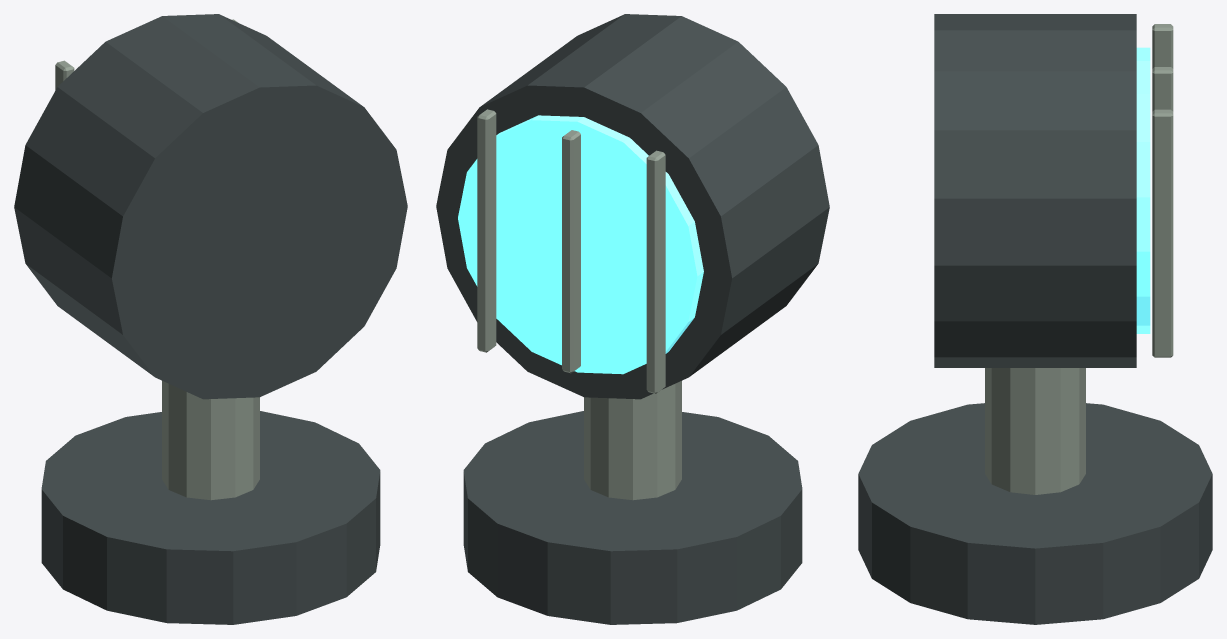
Rendered from acc_searchlight.glb.
3 renders of one model, left to right at view 1: azimuth 30°, elevation 25°; view 2: azimuth 150°, elevation 25°; view 3: azimuth 270°, elevation 25°, orthographic. The views are drawn at different scales.
Parts seen in each view (by area): view 1: acc_searchlight_RunningGear, acc_searchlight_ArmorEdges; view 2: acc_searchlight_RunningGear, acc_searchlight_Optics, acc_searchlight_ArmorEdges; view 3: acc_searchlight_RunningGear, acc_searchlight_ArmorEdges, acc_searchlight_Optics.
Boxes of the visible parts, x1=… form: acc_searchlight_RunningGear: x1=14, y1=14, x2=407, y2=624; acc_searchlight_ArmorEdges: x1=55, y1=19, x2=259, y2=500; acc_searchlight_RunningGear: x1=436, y1=14, x2=829, y2=624; acc_searchlight_Optics: x1=458, y1=115, x2=703, y2=374; acc_searchlight_ArmorEdges: x1=477, y1=109, x2=681, y2=500; acc_searchlight_RunningGear: x1=858, y1=14, x2=1212, y2=624; acc_searchlight_ArmorEdges: x1=985, y1=24, x2=1173, y2=494; acc_searchlight_Optics: x1=1136, y1=47, x2=1150, y2=333.
Bounding box in the file's own units: 0.42 × 0.68 × 0.42.
